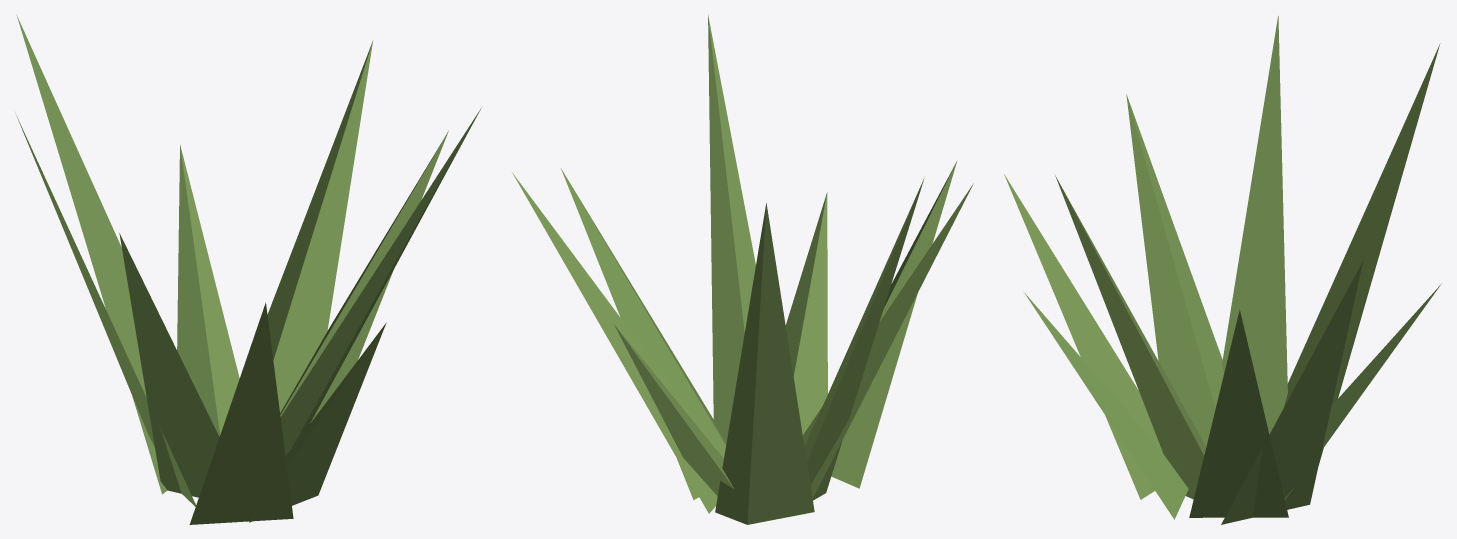
The model's file is GrassTuft.fbx.
The picture shows the model from 3 angles, left to right: view 1: azimuth 30°, elevation 25°; view 2: azimuth 150°, elevation 25°; view 3: azimuth 270°, elevation 25°; orthographic projection. The views are drawn at different scales.
Visible parts, largest first — view 1: Blades; view 2: Blades; view 3: Blades.
Boxes of the visible parts, <box> form: Blades: <box>16,15,481,524</box>; Blades: <box>512,15,973,524</box>; Blades: <box>1004,16,1441,524</box>.
Size of the model in its own units: 0.8433 by 0.8144 by 0.807.
